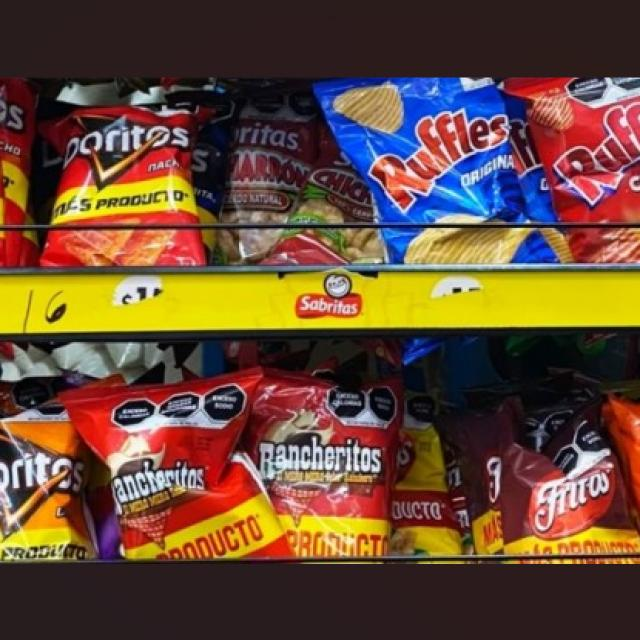doritosNacho: (68, 103, 193, 267)
rancheritos: (255, 381, 383, 558), (93, 402, 225, 566)
